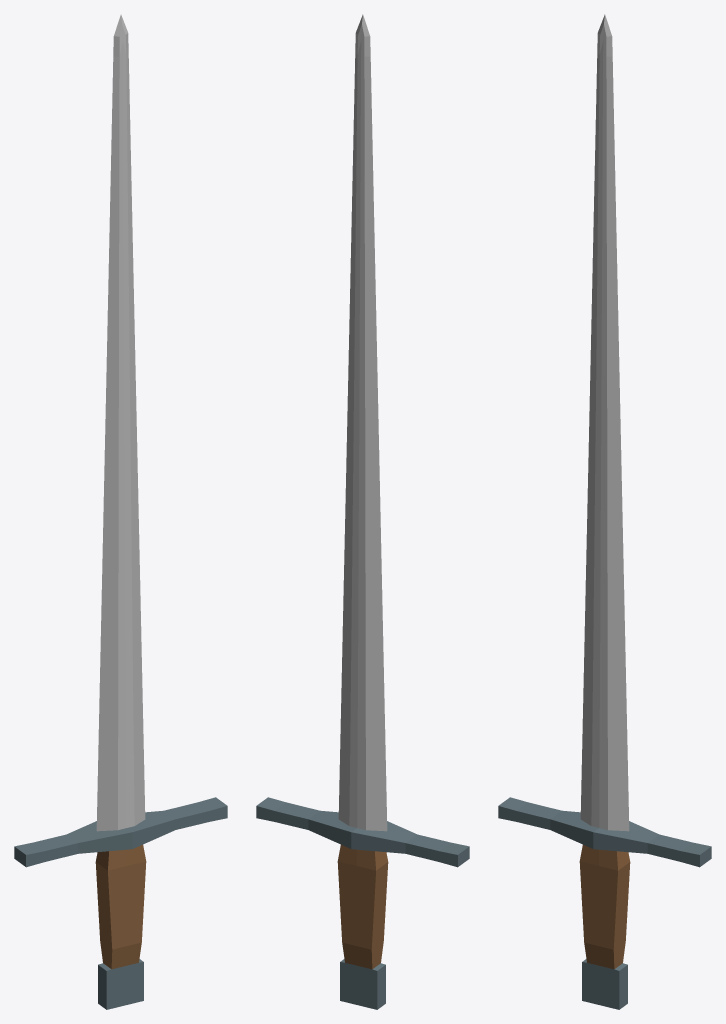
Rendered from Espada_Textura.fbx.
3 views of the same model, side by side, from view 1: azimuth 30°, elevation 25°; view 2: azimuth 150°, elevation 25°; view 3: azimuth 330°, elevation 25° (orthographic).
Visible parts, largest first — view 1: Cube; view 2: Cube; view 3: Cube.
Part boxes in pixels (<box>): Cube: <box>14,14,227,1009</box>; Cube: <box>256,14,469,1009</box>; Cube: <box>498,14,711,1009</box>.
Size of the model in its own units: 1 by 4.69 by 0.1986.
